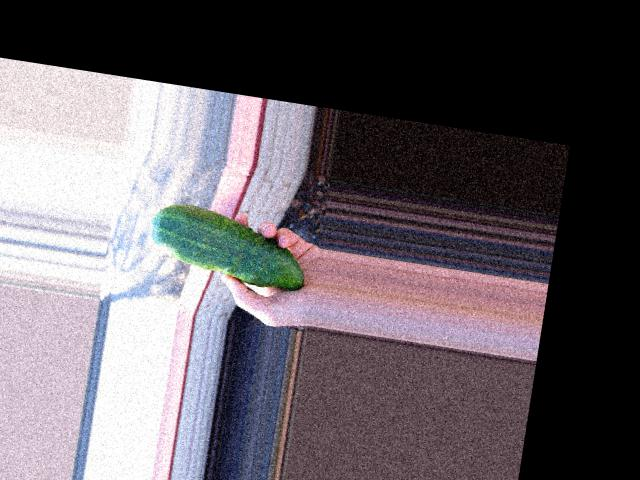cucumber: (145, 198, 312, 292)
